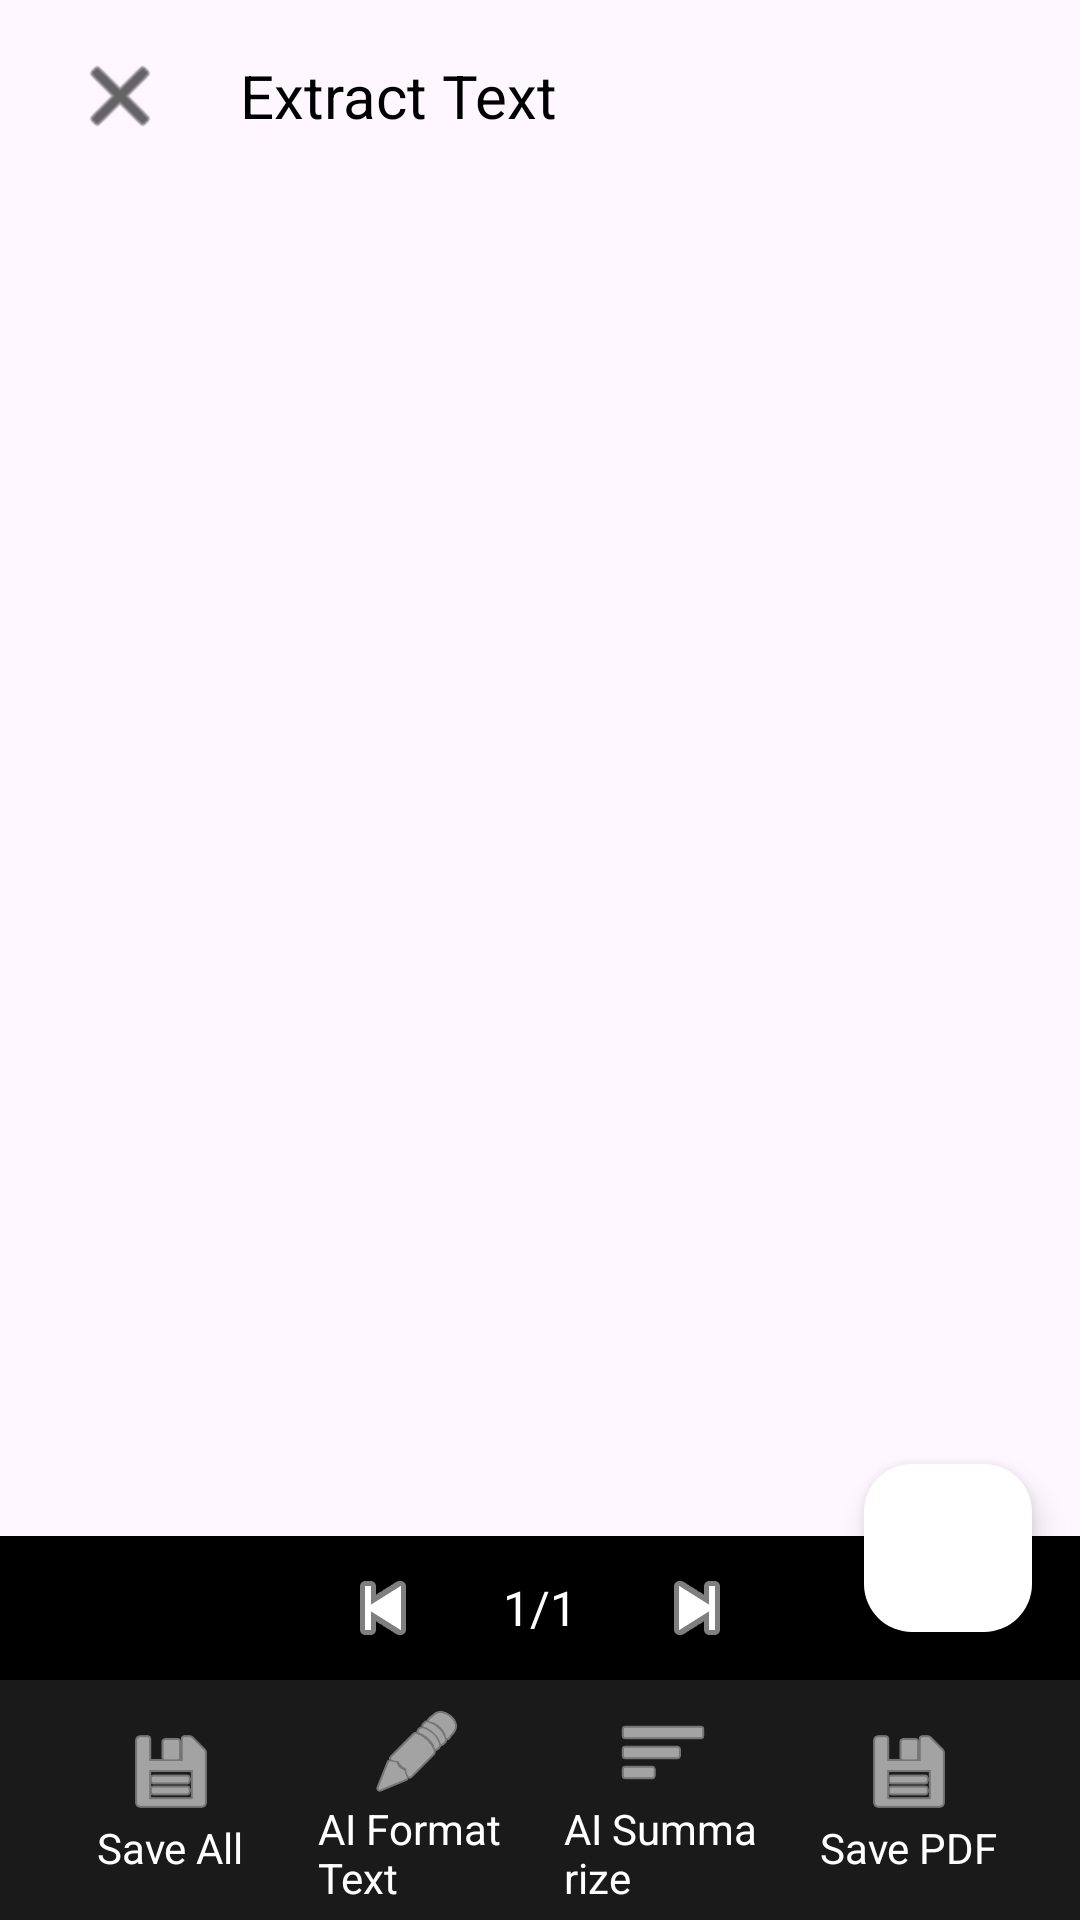

Icon click points for this 1080*1920 phone screenshot, format [x,y]:
edit: [416,1751]
Next: [697,1608]
Previous: [383,1608]
sort by size: [663,1752]
